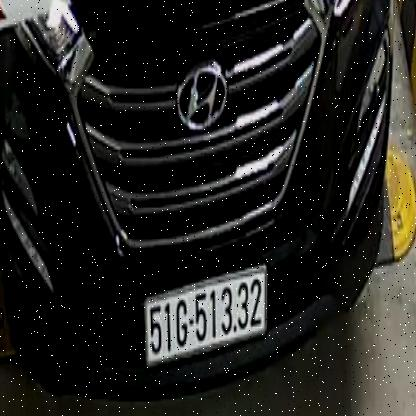license plate: (133, 301, 276, 358)
